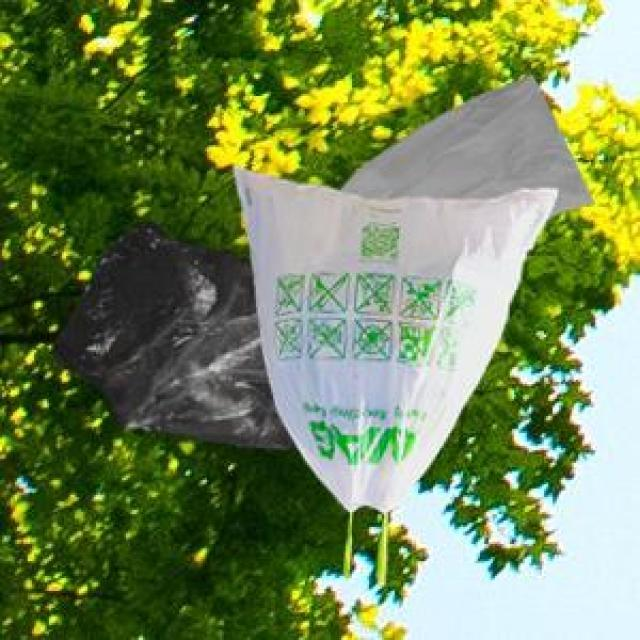Trashbag: (48, 231, 286, 448)
